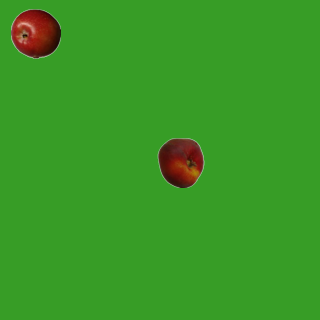Apple Braeburn: (10, 8, 60, 58)
Nectarine Flat: (155, 137, 205, 187)
